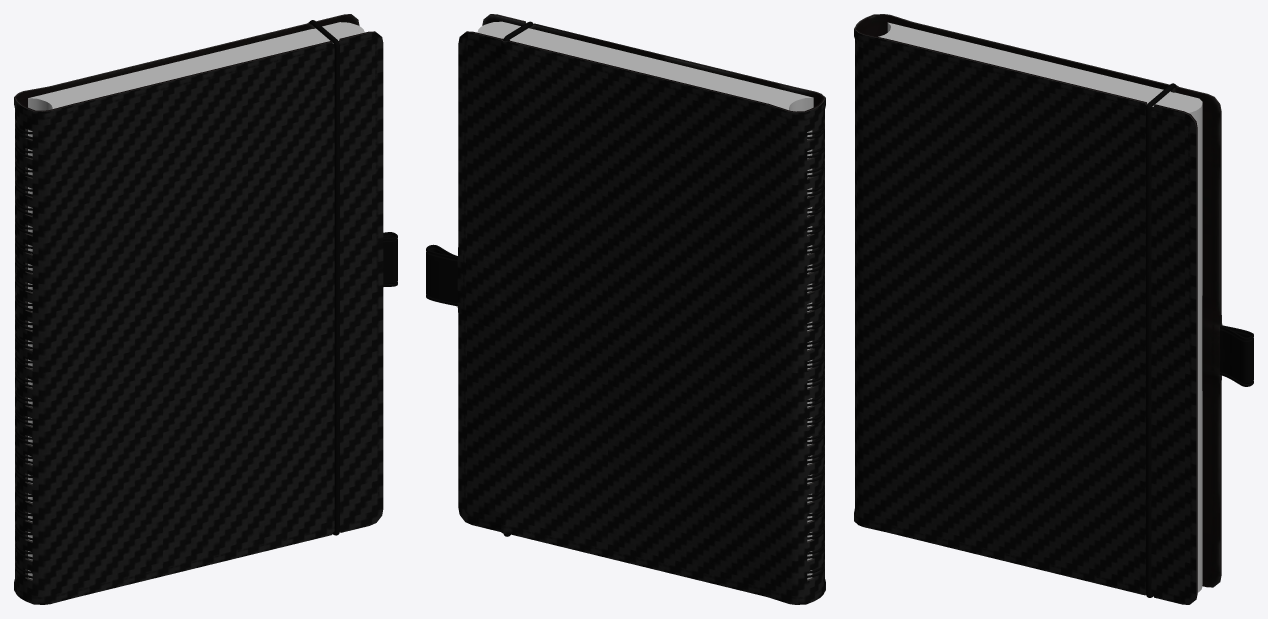
File: na_pruzhine.glb
3 views of the same model, side by side, from view 1: azimuth 30°, elevation 25°; view 2: azimuth 150°, elevation 25°; view 3: azimuth 330°, elevation 25° (orthographic).
Parts seen in each view (by area): view 1: Cover; view 2: Cover; view 3: Cover.
Boxes of the visible parts, box(x1,y1,x2,y2) form: Cover: box(14, 14, 397, 604); Cover: box(426, 14, 825, 604); Cover: box(854, 14, 1253, 604).
Size of the model in its own units: 1.49 by 1.85 by 0.1934.
Materials: 1 (1 with a texture image).
